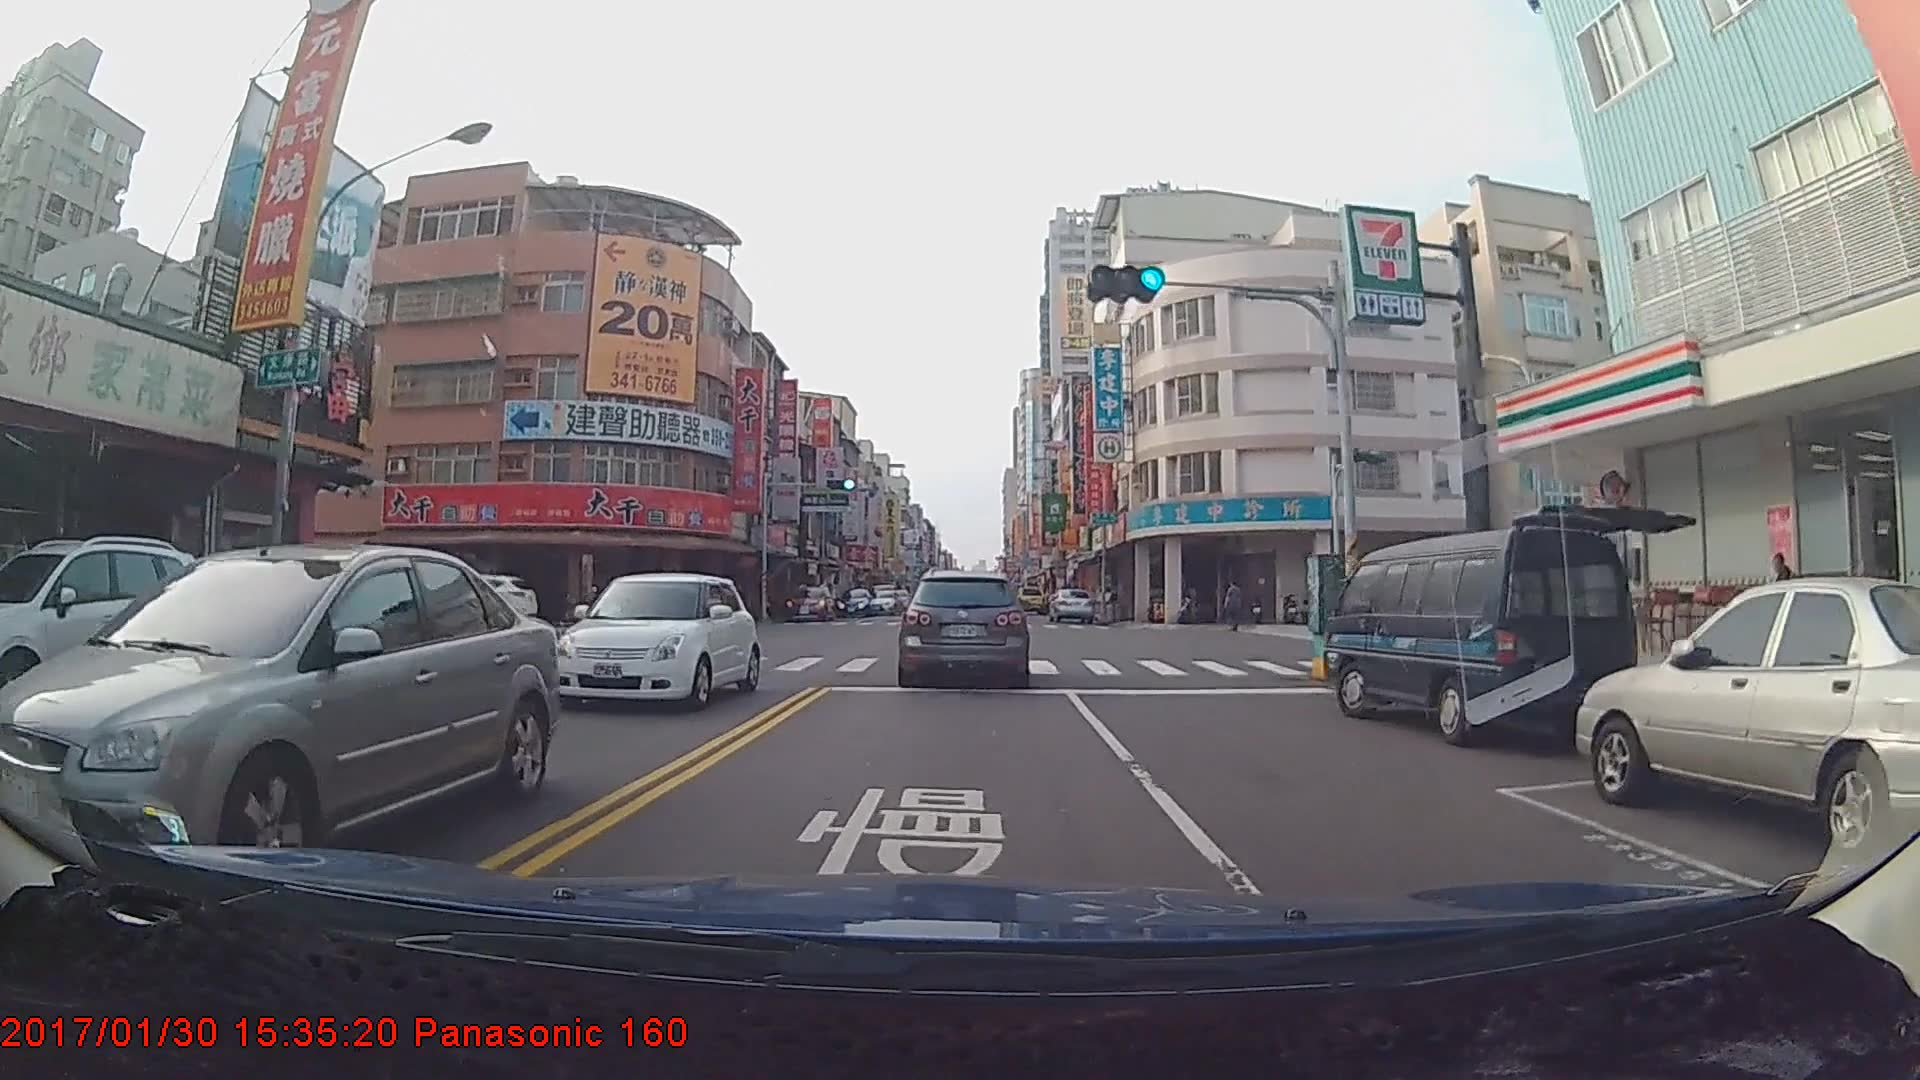pedestrian: (1225, 584, 1247, 637)
vehicle: (21, 541, 557, 880), (1575, 579, 1918, 869), (1317, 518, 1652, 752), (0, 532, 199, 726), (552, 570, 760, 716), (898, 568, 1028, 680), (1047, 587, 1096, 625), (783, 585, 831, 622), (835, 589, 873, 617), (866, 588, 901, 615), (1013, 584, 1045, 612)
